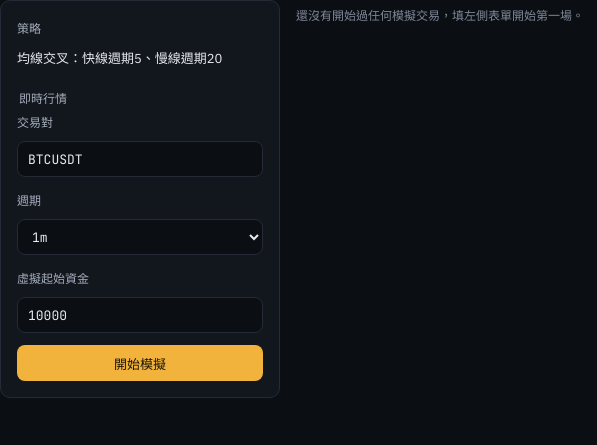
Test: PaperTrading › 起始資金不合法時擋下送出，不呼叫 start_paper_trading
Check: the text "均線交叉：快線週期5、慢線週期20" is shown, box [17,50,222,67]
Step 1. Replace the text in the field labelled "虛擬起始資金" with "0" → (140, 315), box [17,297,263,333]
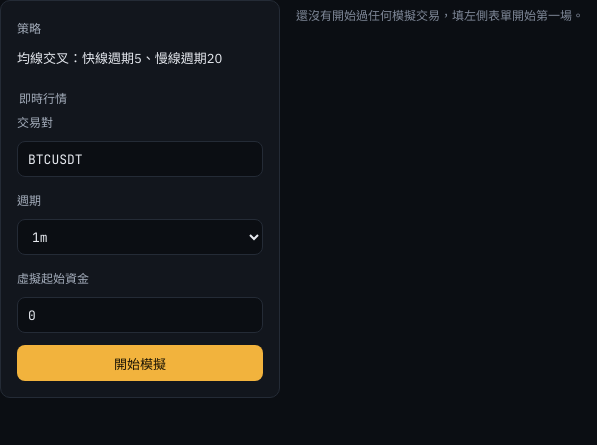
Step 2. Click the button "開始模擬" → click(140, 363), box [17,345,263,381]
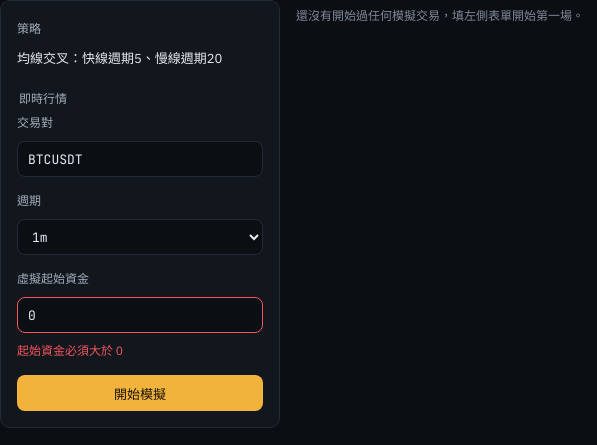
Check: the text "起始資金必須大於 0" is shown, box [17,343,123,358]
